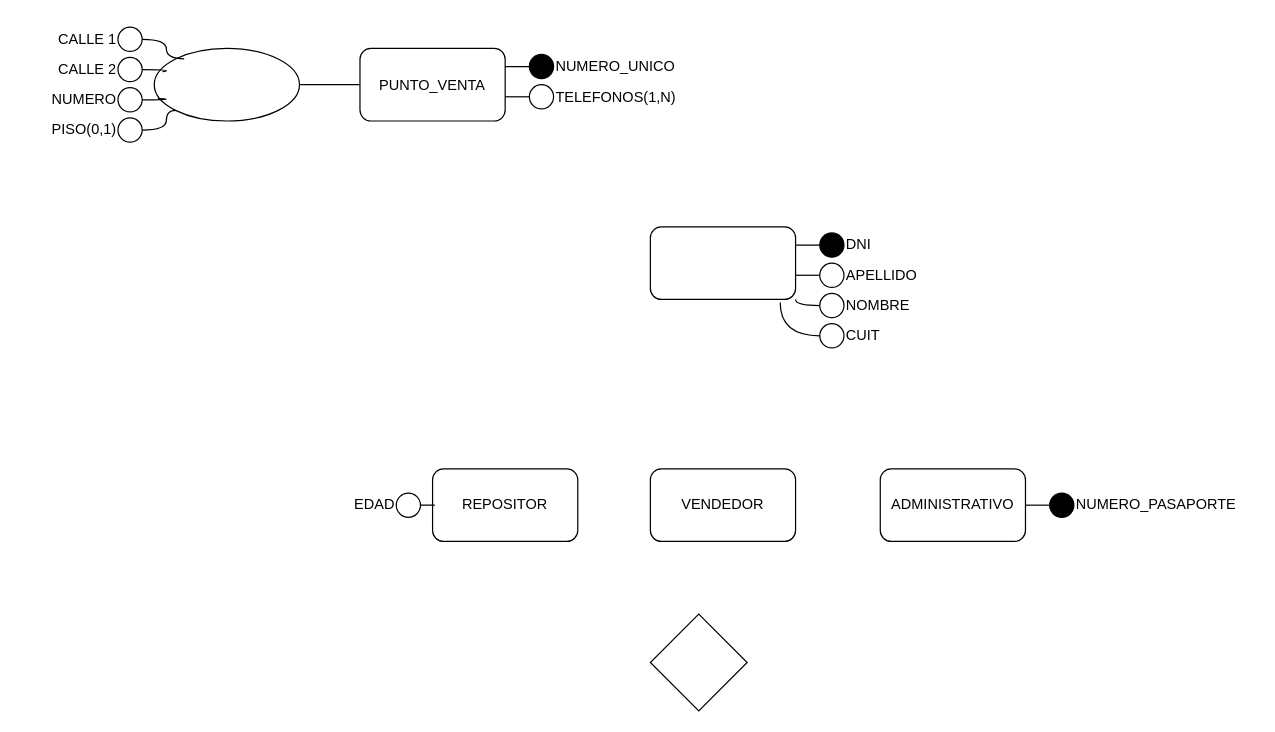
This 1275x732 diagram has some shape labels left out. The shapes that lost their labels are listed below. From the top down, each one's centre as x and y in pixels, then its label:
At (226,84): "DIRECCION".
At (722,262): "EMPLEADO".
